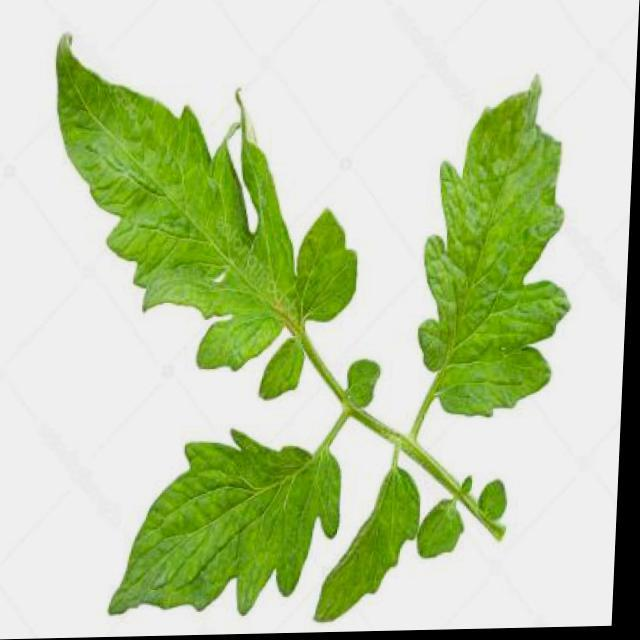Tomato bacterial spot leaf: (18, 33, 390, 395), (406, 75, 592, 418), (83, 440, 350, 629), (314, 450, 430, 632)
